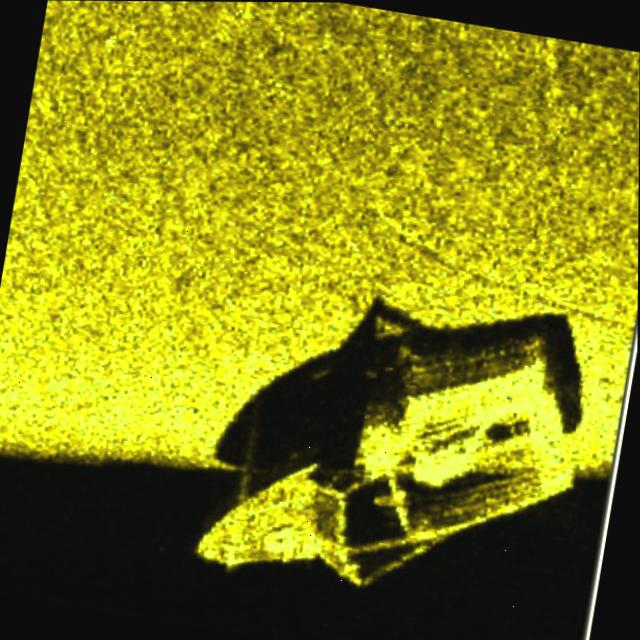shipwreck: (190, 275, 603, 640)
